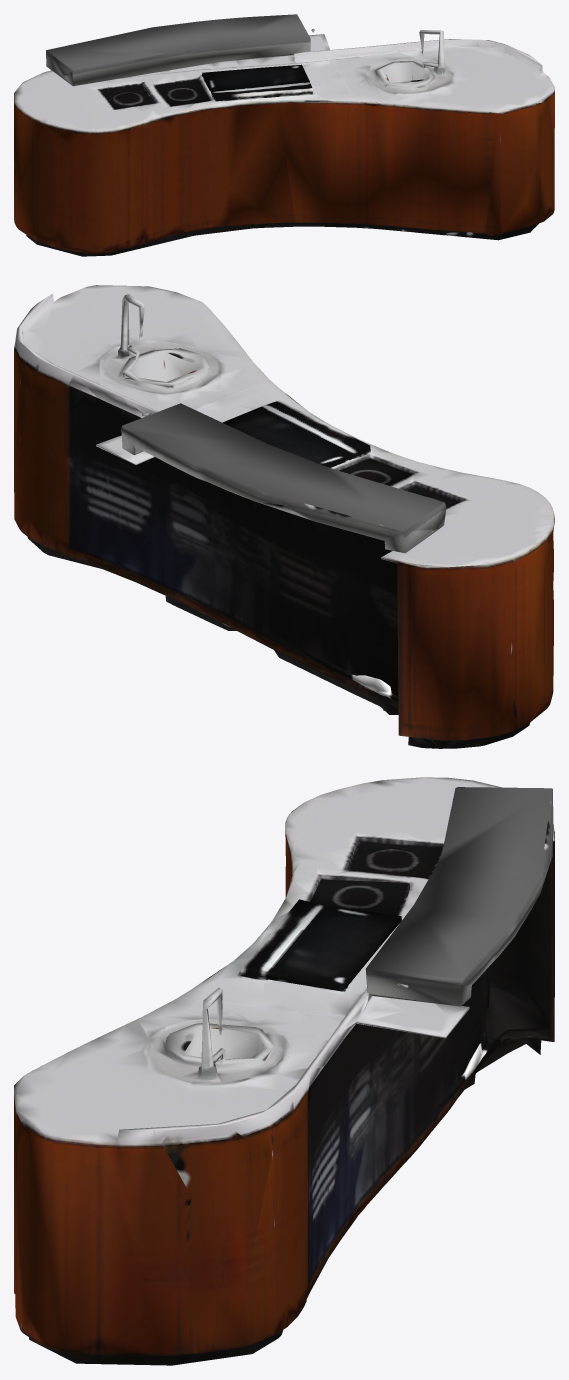
Rendered from kitchen_island.glb.
The picture shows the model from 3 angles, top to bottom: view 1: azimuth 30°, elevation 25°; view 2: azimuth 150°, elevation 25°; view 3: azimuth 270°, elevation 25°; orthographic projection. The views are drawn at different scales.
Parts seen in each view (by area): view 1: geometry_0; view 2: geometry_0; view 3: geometry_0.
Part boxes in pixels (bbox=[...]): geometry_0: bbox=[14, 14, 554, 256]; geometry_0: bbox=[14, 285, 554, 748]; geometry_0: bbox=[14, 777, 554, 1365].
Size of the model in its own units: 1 by 0.3904 by 0.6256.
1 material, 1 textured.
